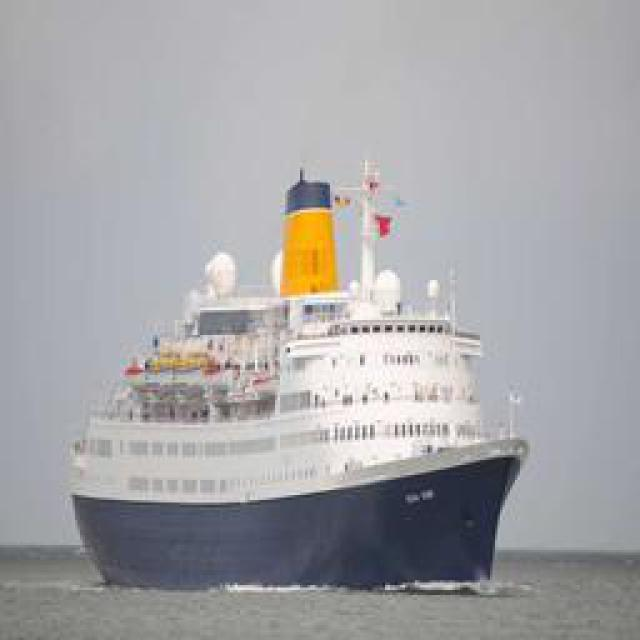Ship: (72, 232, 530, 602)
